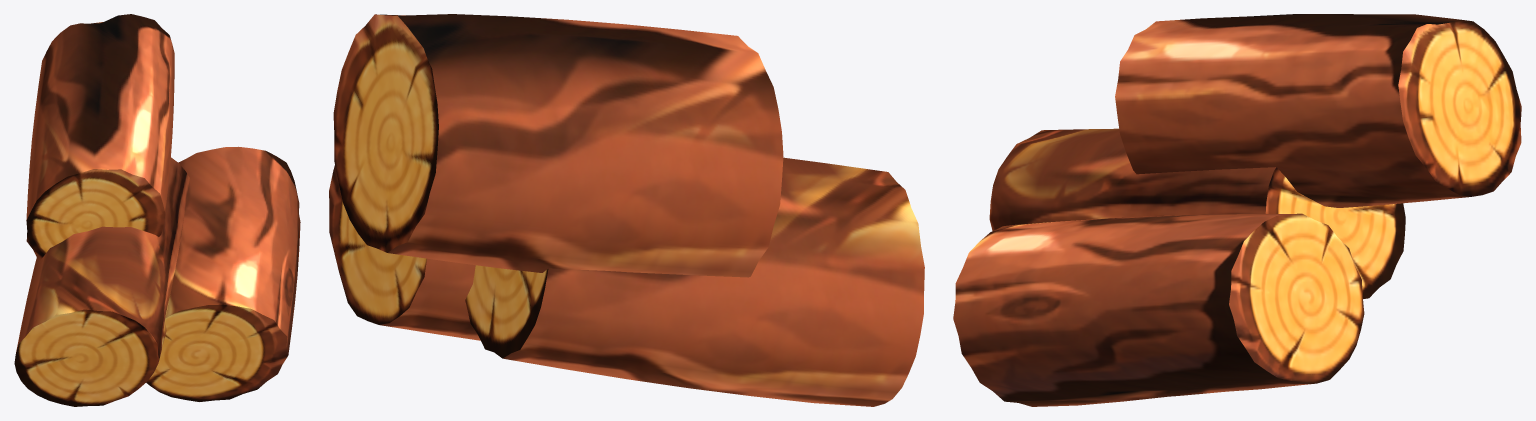
Rendered from item-wood.glb.
The picture shows the model from 3 angles, left to right: view 1: azimuth 30°, elevation 25°; view 2: azimuth 150°, elevation 25°; view 3: azimuth 270°, elevation 25°; orthographic projection. The views are drawn at different scales.
Parts seen in each view (by area): view 1: solid cut log 3, solid cut log 1, solid cut log 2; view 2: solid cut log 1, solid cut log 2, solid cut log 3; view 3: solid cut log 3, solid cut log 1, solid cut log 2.
Boxes of the visible parts, x1,y1,x2,y2 form: solid cut log 3: (146,146,300,401); solid cut log 1: (26,14,174,260); solid cut log 2: (14,157,189,406); solid cut log 1: (333,14,783,277); solid cut log 2: (465,157,924,406); solid cut log 3: (329,165,480,340); solid cut log 3: (953,213,1364,406); solid cut log 1: (1115,14,1521,207); solid cut log 2: (989,128,1405,298).
Size of the model in its own units: 0.6783 by 0.5801 by 0.7302.
Materials: 1 (1 with a texture image).
